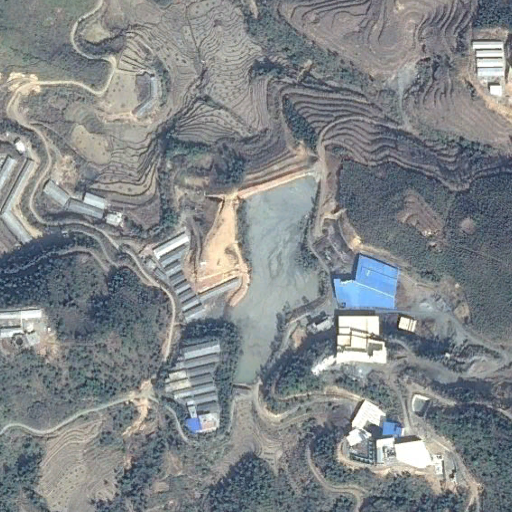tp: (226, 143, 327, 392)
